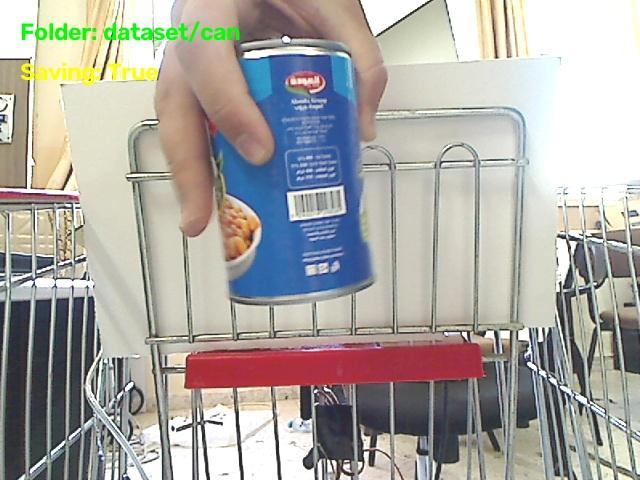can: (211, 39, 373, 304)
